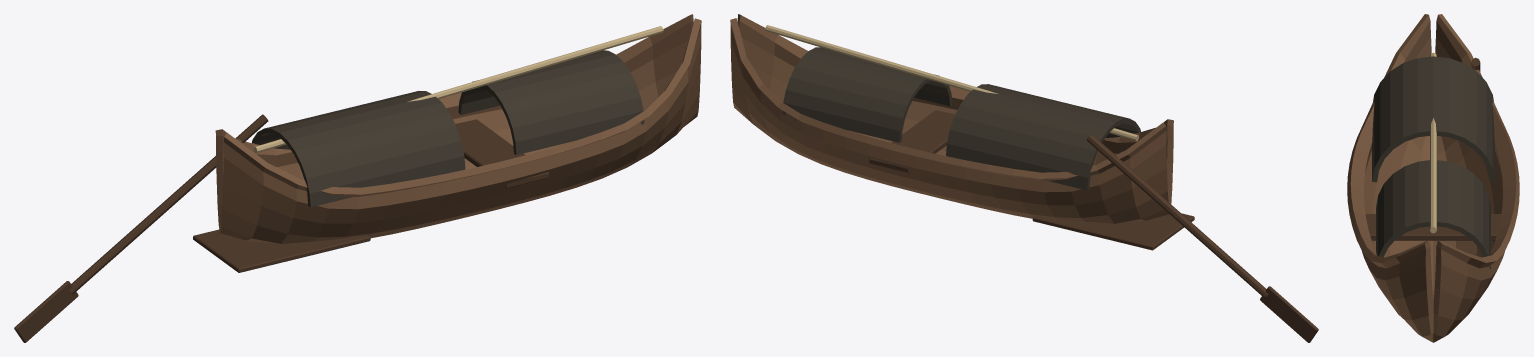
File: boat.glb
3 views of the same model, side by side, from view 1: azimuth 30°, elevation 25°; view 2: azimuth 150°, elevation 25°; view 3: azimuth 270°, elevation 25° (orthographic). The views are drawn at different scales.
Parts seen in each view (by area): view 1: boat; view 2: boat; view 3: boat.
Boxes of the visible parts, bbox=[...] form: boat: bbox=[14, 14, 701, 342]; boat: bbox=[730, 14, 1318, 342]; boat: bbox=[1347, 14, 1519, 342].
Size of the model in its own units: 7.48 by 1.99 by 1.71.
